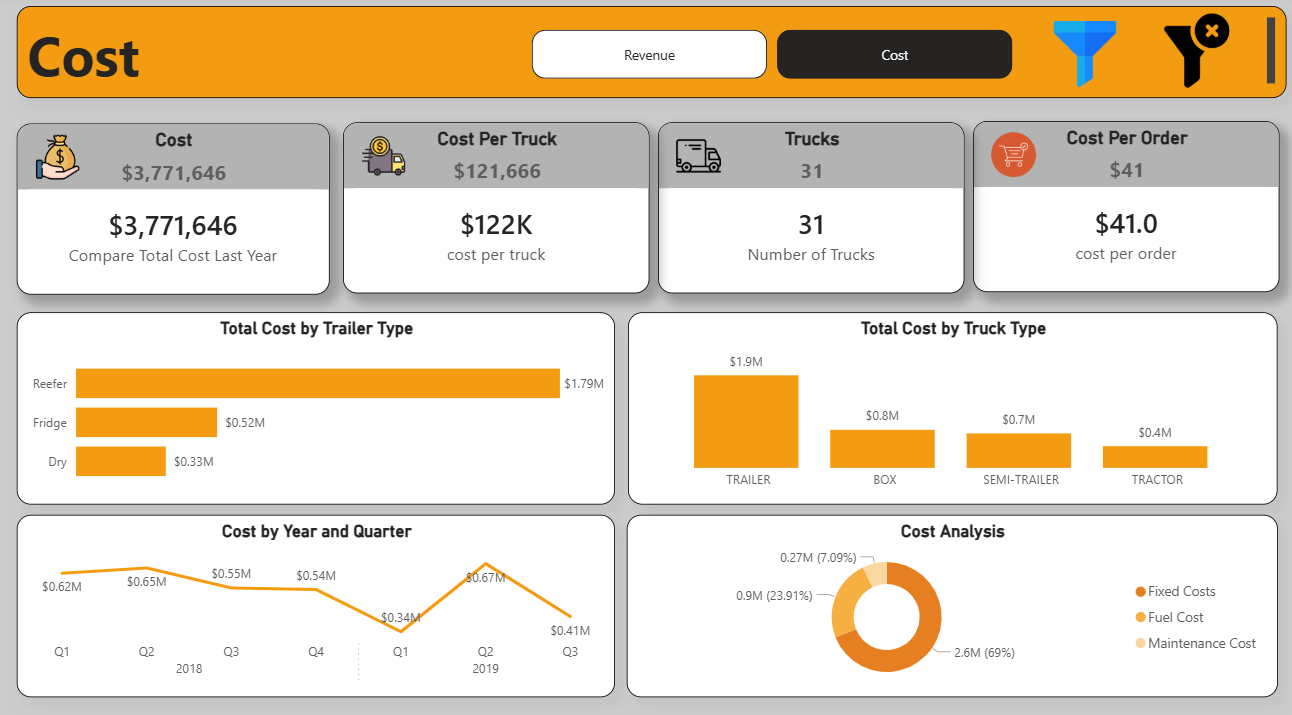

This screenshot's page, from the dashboard's own definition file:
{"tool":"powerbi","page":{"name":"Cost","canvas":[1280,720],"ordinal":1},"visuals":[{"type":"group","id":"g1","title":"Group 5","box":[961.4,122.9,300,167.1],"z":0},{"type":"group","id":"g2","title":"Group 2","box":[961.4,122.9,301.1,167.7],"z":0,"group":"g1"},{"type":"cardVisual","title":"Cost Per Order","fields":{"Data":["Measure.cost per order"]},"box":[961.4,122.9,301.1,167.7],"z":0,"group":"g2"},{"type":"group","id":"g3","title":"Group 2","box":[343.6,123.9,301.1,167.7],"z":0,"group":"g8"},{"type":"cardVisual","title":"Cost Per Truck","fields":{"Data":["Measure.cost per truck"]},"box":[343.6,123.9,301.1,167.7],"z":0,"group":"g3"},{"type":"group","id":"g4","title":"Group 2","box":[653,124.4,301.1,167.7],"z":0,"group":"g6"},{"type":"cardVisual","title":"Trucks","fields":{"Data":["Measure.Number of trucks"]},"box":[653,124.4,301.1,167.7],"z":0,"group":"g4"},{"type":"group","id":"g5","title":"Group 2","box":[5,125.7,325.2,167.7],"z":0,"group":"g7"},{"type":"cardVisual","title":"Cost","fields":{"Data":["Measure.Compare Total Cost Last Year"]},"box":[23.2,125.7,307,167.7],"z":0,"group":"g5"},{"type":"group","id":"g6","title":"Group 5","box":[653,124.4,301.5,168.1],"z":1000},{"type":"image","box":[971.6,134.2,60.2,43.6],"z":1000,"group":"g1"},{"type":"image","box":[353.3,135.2,60.2,43.6],"z":1000,"group":"g8"},{"type":"image","box":[662.7,135.7,60.2,43.6],"z":1000,"group":"g6"},{"type":"image","box":[32.1,137,63,43.6],"z":1000,"group":"g7"},{"type":"cardVisual","fields":{"Data":["Measure.Cost Arrow"]},"box":[5,192.8,88.5,64.1],"z":1000,"group":"g5"},{"type":"textbox","box":[23.3,10,1246.7,90],"z":2000},{"type":"pageNavigator","box":[528.6,32.9,472.9,48.6],"z":3000},{"type":"image","box":[1013.3,25,116.7,65],"z":4000},{"type":"image","box":[1130,17.1,102.9,72.9],"z":5000},{"type":"clusteredBarChart","title":"Total Cost by Trailer Type ","fields":{"Category":["d_vehicle.Trailers Type"],"Y":["Measure.Total Cost"]},"box":[23.1,310.4,587.5,188.6],"z":6000},{"type":"lineChart","title":" Cost by Year and Quarter","fields":{"Category":["Date.Year","Date.Quarter"],"Y":["Measure.Total Cost"]},"box":[23.1,509.3,587.5,179.6],"z":7000},{"type":"clusteredColumnChart","title":"Total Cost by Truck Type","fields":{"Category":["d_vehicle.Truck Type"],"Y":["Measure.Total Cost"]},"box":[623.5,310.4,637.6,188.6],"z":8000},{"type":"donutChart","title":"Cost Analysis","fields":{"Y":["Sum(F_cost.Fixed Costs)","Sum(F_cost.Fuel)","Sum(F_cost.Maintenance)"]},"box":[622.2,509.3,638.8,179.6],"z":9000},{"type":"group","id":"g7","title":"Group 4","box":[5,125.7,325.2,167.7],"z":11000},{"type":"group","id":"g8","title":"Group 5","box":[343.6,123.9,301.8,169.3],"z":12000}]}

Visuals, with their boxes in screenshot pixels (x1, y1, x2, y2), scaled from the page's 1280x720 canvas onto the 1292x715 screenshot:
"Group 5" group: rect(970, 122, 1273, 288)
"Group 2" group: rect(970, 122, 1274, 289)
"Cost Per Order" cardVisual: rect(970, 122, 1274, 289)
"Group 2" group: rect(347, 123, 651, 290)
"Cost Per Truck" cardVisual: rect(347, 123, 651, 290)
"Group 2" group: rect(659, 124, 963, 290)
"Trucks" cardVisual: rect(659, 124, 963, 290)
"Group 2" group: rect(5, 125, 333, 291)
"Cost" cardVisual: rect(23, 125, 333, 291)
"Group 5" group: rect(659, 124, 963, 290)
image: rect(981, 133, 1041, 177)
image: rect(357, 134, 417, 178)
image: rect(669, 135, 730, 178)
image: rect(32, 136, 96, 179)
cardVisual - Measure.Cost Arrow: rect(5, 191, 94, 255)
textbox: rect(24, 10, 1282, 99)
pageNavigator: rect(534, 33, 1011, 81)
image: rect(1023, 25, 1141, 89)
image: rect(1141, 17, 1244, 89)
"Total Cost by Trailer Type " clusteredBarChart: rect(23, 308, 616, 496)
" Cost by Year and Quarter" lineChart: rect(23, 506, 616, 684)
"Total Cost by Truck Type" clusteredColumnChart: rect(629, 308, 1273, 496)
"Cost Analysis" donutChart: rect(628, 506, 1273, 684)
"Group 4" group: rect(5, 125, 333, 291)
"Group 5" group: rect(347, 123, 651, 291)
